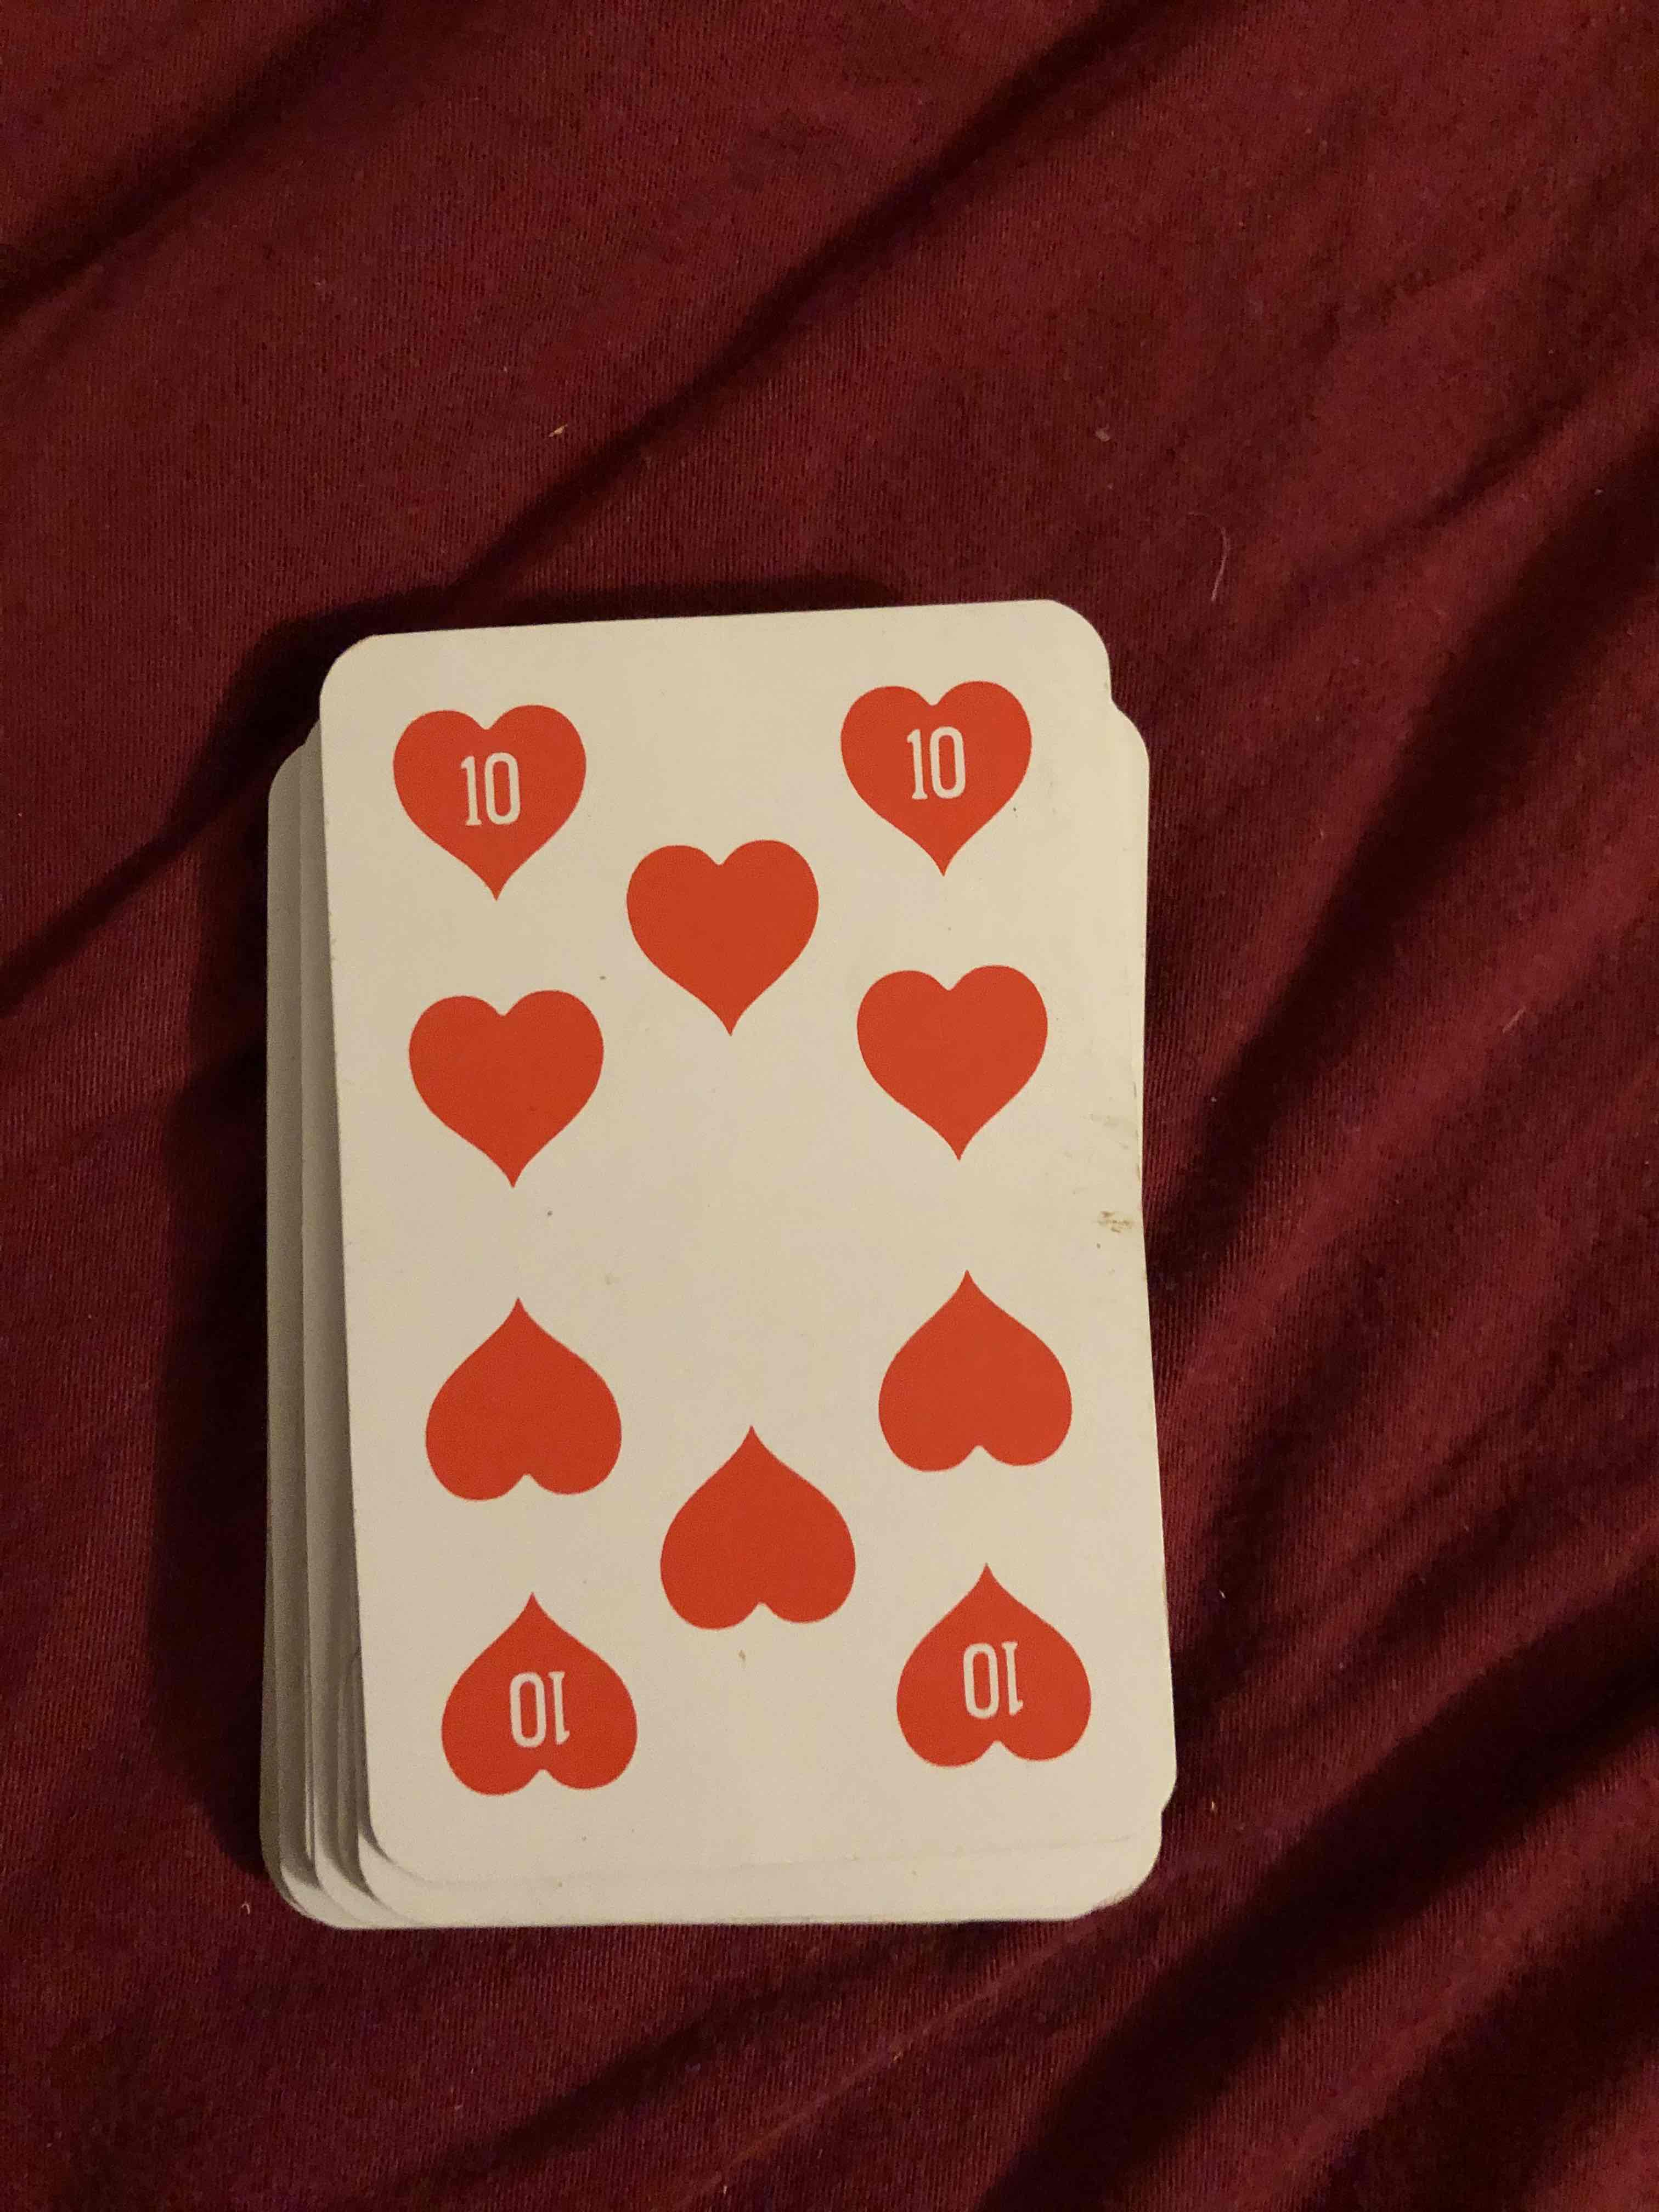hearts10: (331, 632, 1162, 1860)
